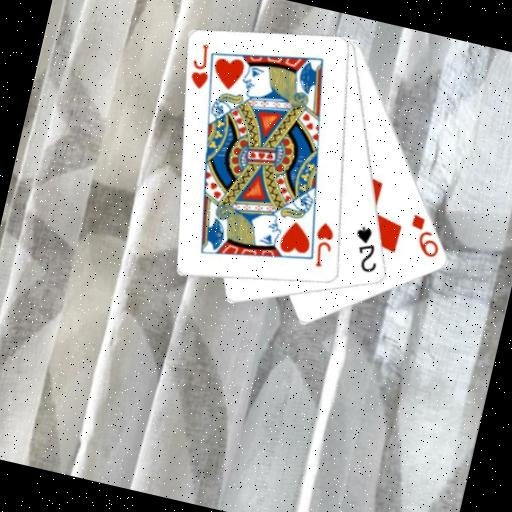2S: (345, 222, 387, 277)
9D: (402, 210, 448, 261)
JH: (306, 217, 339, 271), (185, 39, 217, 92)
